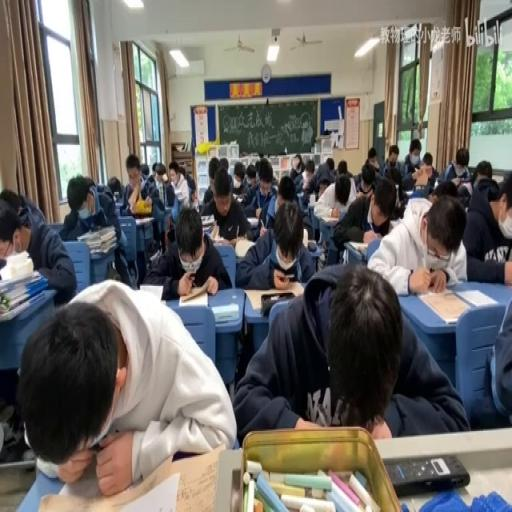calculator: (243, 283, 302, 310), (455, 287, 498, 306), (212, 302, 238, 324), (2, 249, 30, 269), (178, 287, 206, 306), (234, 236, 256, 258), (141, 283, 164, 299), (212, 232, 233, 246), (347, 239, 369, 252), (318, 213, 340, 225), (201, 216, 214, 232), (134, 214, 154, 224), (388, 219, 400, 232), (245, 214, 260, 224), (148, 248, 160, 260), (301, 228, 307, 248), (114, 200, 123, 212), (232, 192, 242, 202), (490, 174, 502, 182), (432, 176, 438, 188), (404, 189, 414, 196)
paper: (24, 277, 232, 495), (234, 260, 462, 440), (368, 189, 468, 292), (0, 194, 76, 312), (62, 170, 130, 288), (144, 206, 229, 299), (234, 199, 316, 289), (469, 278, 510, 430), (461, 166, 512, 276), (310, 169, 356, 222), (378, 146, 406, 205), (236, 160, 262, 214), (442, 146, 472, 190), (165, 161, 189, 212), (201, 156, 222, 206), (401, 138, 424, 181), (122, 166, 144, 209), (358, 145, 381, 184), (0, 186, 26, 216), (275, 173, 295, 205), (472, 160, 491, 184), (410, 178, 432, 198), (152, 196, 166, 225), (258, 160, 272, 188), (289, 154, 304, 180), (106, 176, 122, 200), (297, 188, 310, 212), (139, 161, 149, 179), (218, 155, 229, 171), (337, 158, 347, 175), (422, 154, 433, 169), (253, 159, 260, 178), (325, 156, 334, 170), (427, 193, 437, 205), (150, 162, 158, 176), (306, 162, 314, 175), (178, 164, 186, 176), (189, 189, 195, 202)
person: (385, 452, 470, 494), (307, 240, 318, 250)
